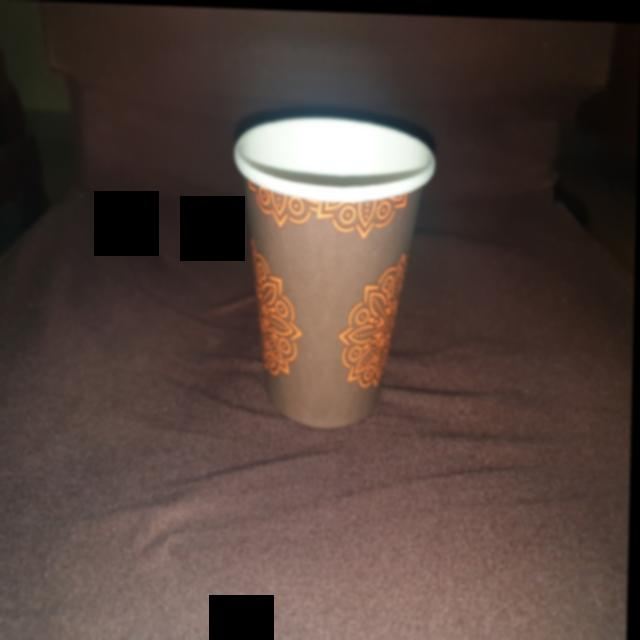cups: (226, 102, 447, 438)
